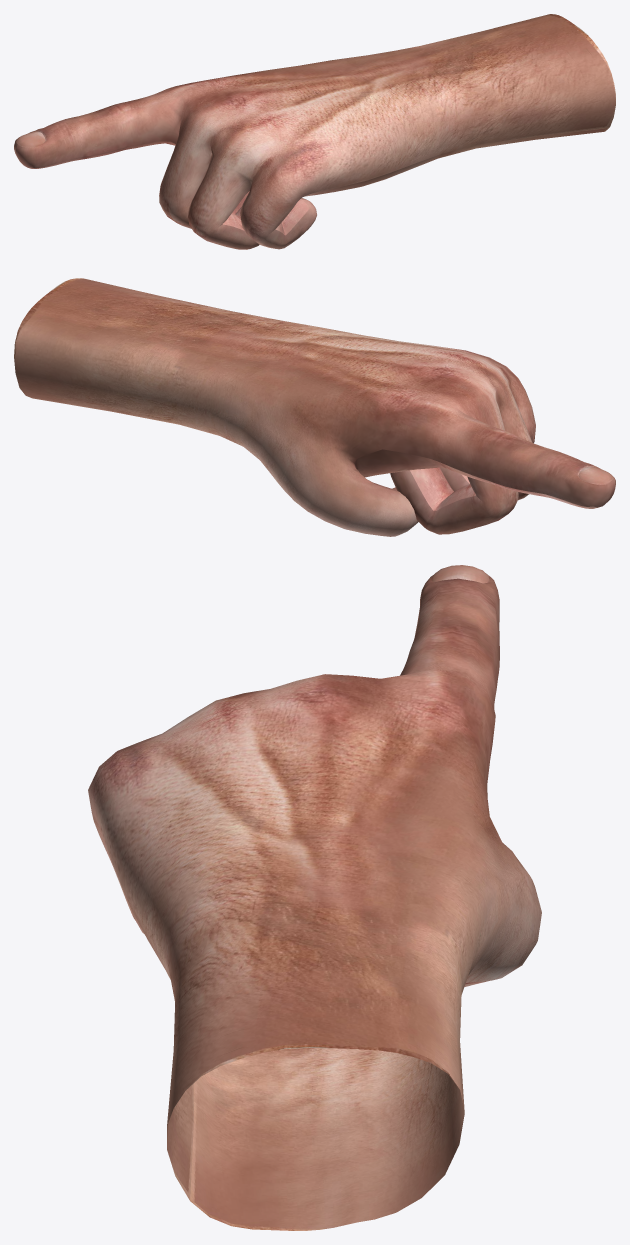
The model's file is Hand.gltf.
The picture shows the model from 3 angles, top to bottom: view 1: azimuth 30°, elevation 25°; view 2: azimuth 150°, elevation 25°; view 3: azimuth 270°, elevation 25°; orthographic projection. The views are drawn at different scales.
Visible parts, largest first — view 1: Cube.002_0; view 2: Cube.002_0; view 3: Cube.002_0.
Part boxes in pixels (x1,y1,x2,y2): Cube.002_0: (14,14,615,249); Cube.002_0: (14,278,615,536); Cube.002_0: (88,565,541,1230).
Bounding box in the file's own units: 0.2455 × 0.0632 × 0.0918.
Materials: 1 (1 with a texture image).
